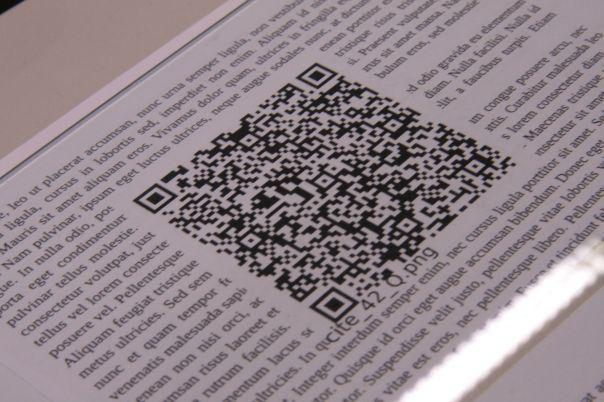Finder pattern: (308, 288, 359, 323), (130, 182, 178, 215), (296, 62, 338, 90)
